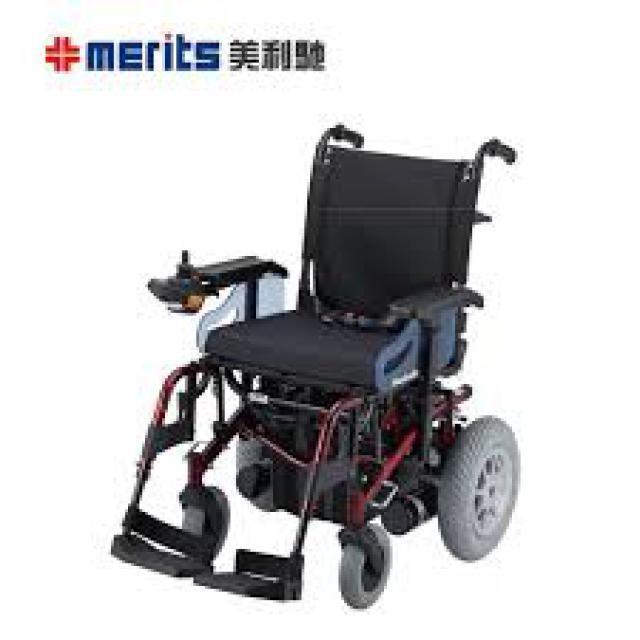wheelchair: (74, 120, 555, 614)
